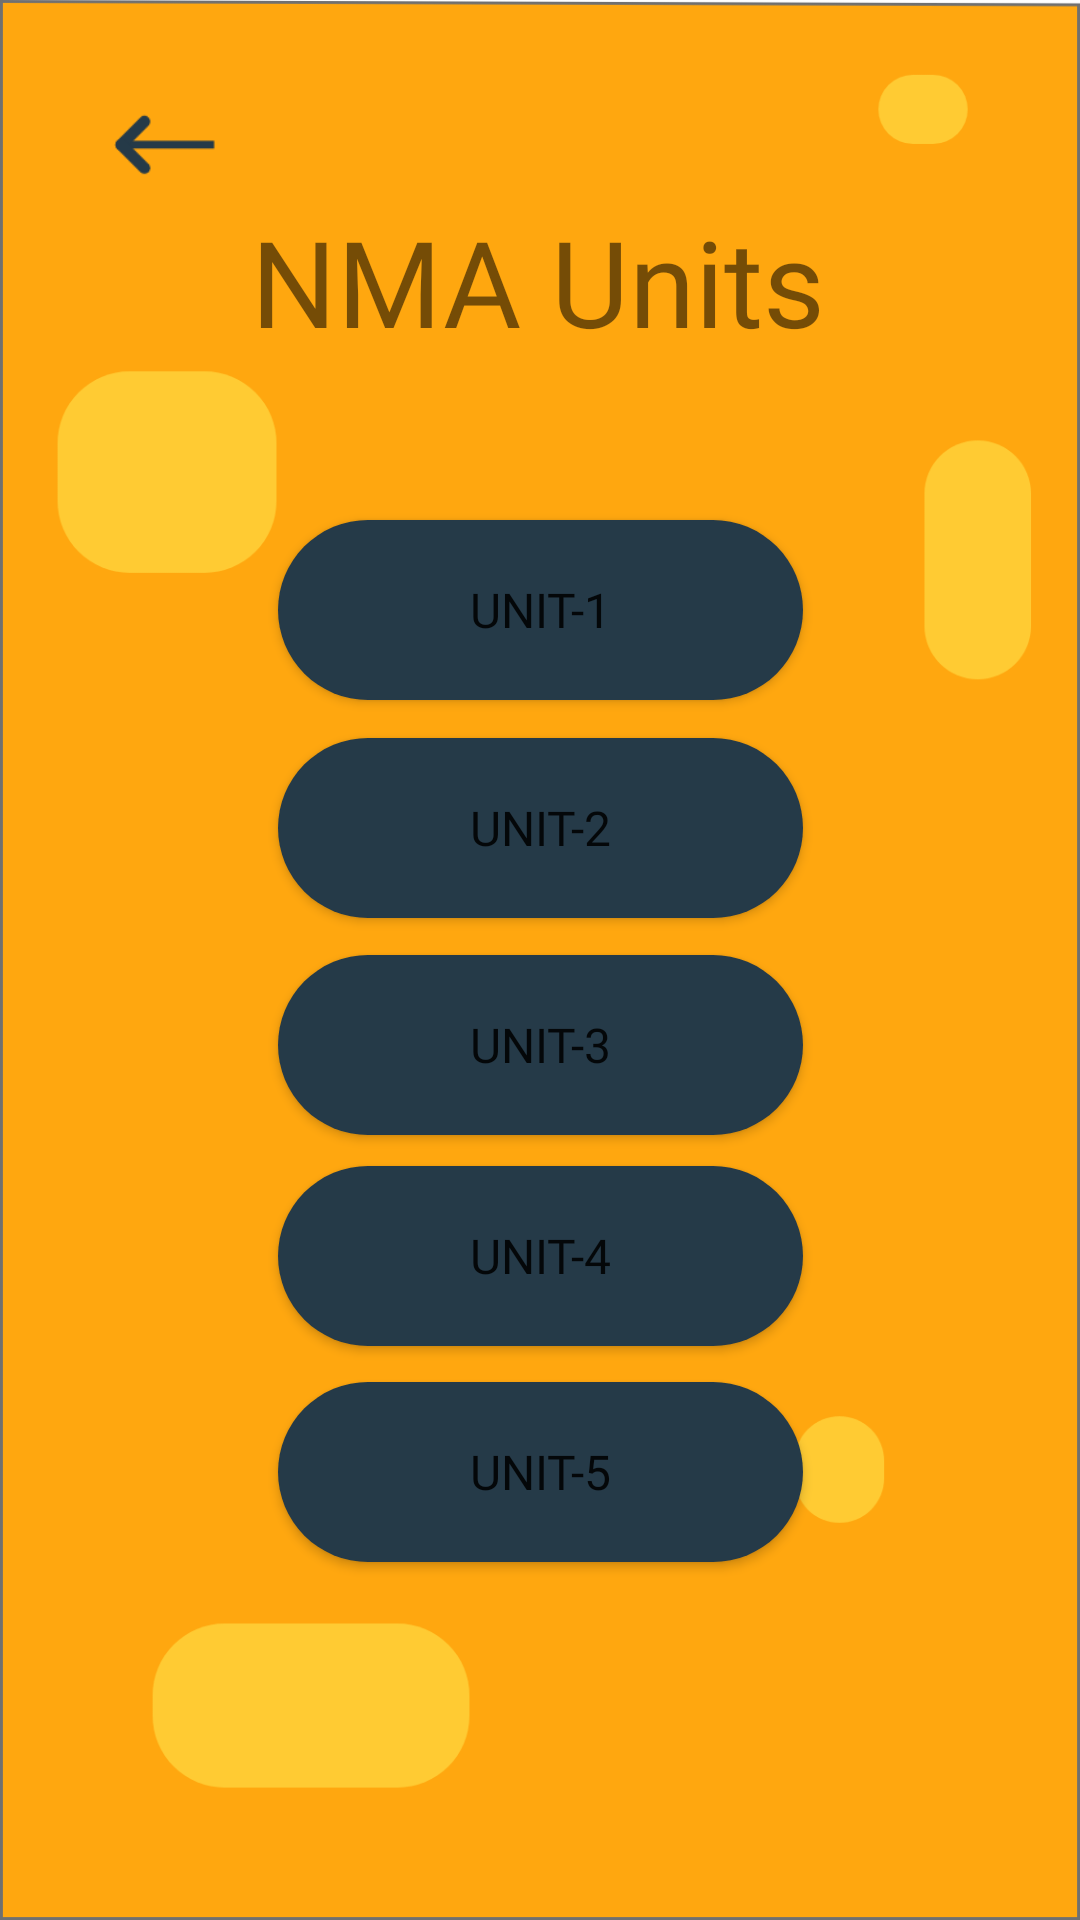

Locate icon controls on the screen. Image size 1080×1920, boxes as (x1, y1, x2, y2).
Back Arrow: (114, 115, 215, 174)
